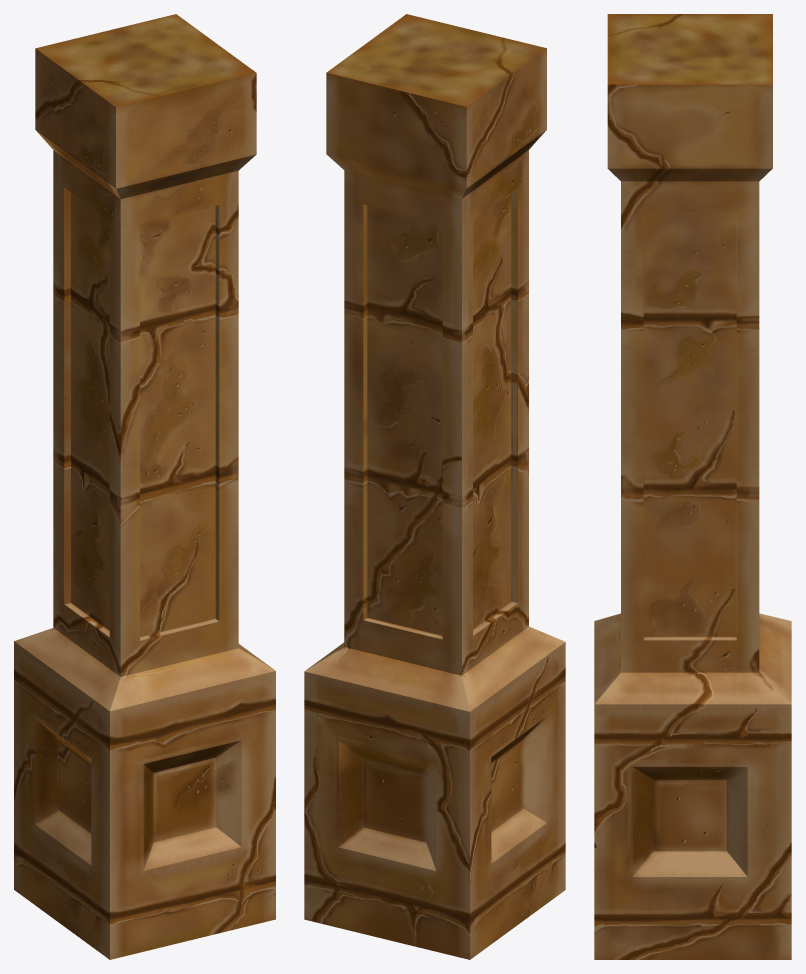
The model's file is Sand_Pillar.obj.
3 views of the same model, side by side, from view 1: azimuth 30°, elevation 25°; view 2: azimuth 150°, elevation 25°; view 3: azimuth 270°, elevation 25° (orthographic). The views are drawn at different scales.
Parts seen in each view (by area): view 1: Sand_Pillar; view 2: Sand_Pillar; view 3: Sand_Pillar.
Boxes of the visible parts, x1,y1,x2,y2 form: Sand_Pillar: (14, 14, 275, 959); Sand_Pillar: (304, 14, 565, 959); Sand_Pillar: (594, 14, 791, 959).
Bounding box in the file's own units: 248 × 1207 × 248.
1 material, 1 textured.
